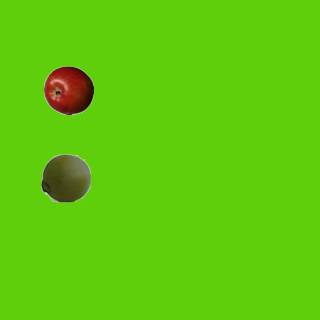Apple Braeburn: (43, 65, 93, 115)
Grape White 4: (40, 152, 90, 202)
